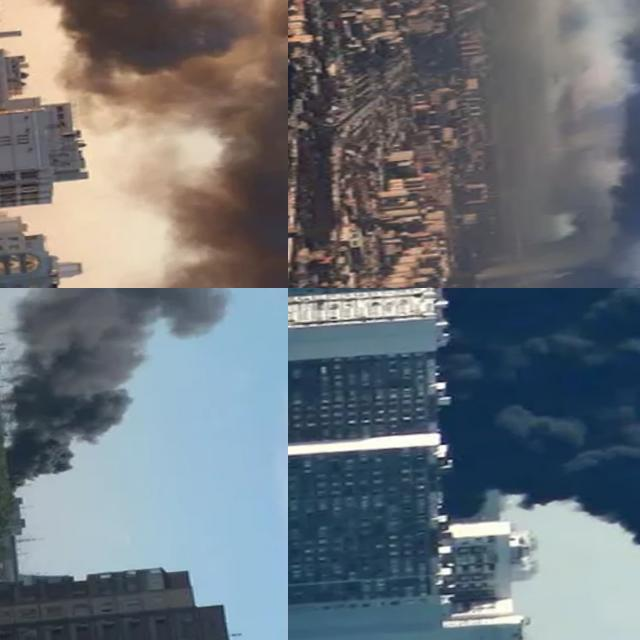smoke: (0, 0, 288, 288), (417, 288, 640, 592), (0, 288, 288, 500), (462, 24, 640, 288)
